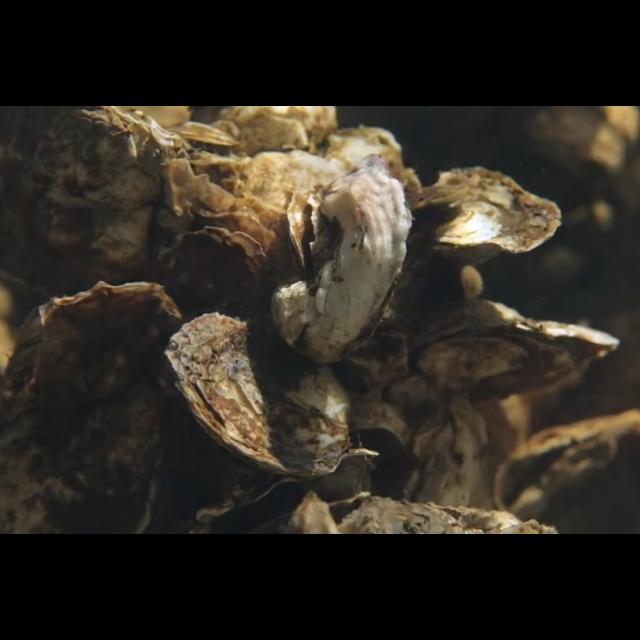Oyster-Closed: (0, 106, 216, 324), (0, 281, 184, 535), (160, 310, 354, 480), (268, 154, 412, 366), (388, 167, 564, 295), (398, 394, 496, 534), (148, 225, 272, 327)
Oyster-Open: (407, 299, 621, 405), (492, 414, 640, 534), (194, 449, 378, 535), (161, 120, 239, 170)
